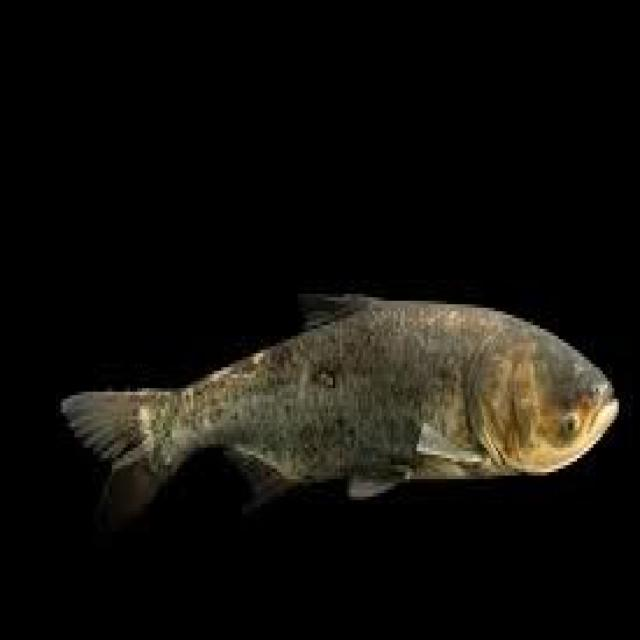Big-Head-Carp: (34, 228, 624, 611)
